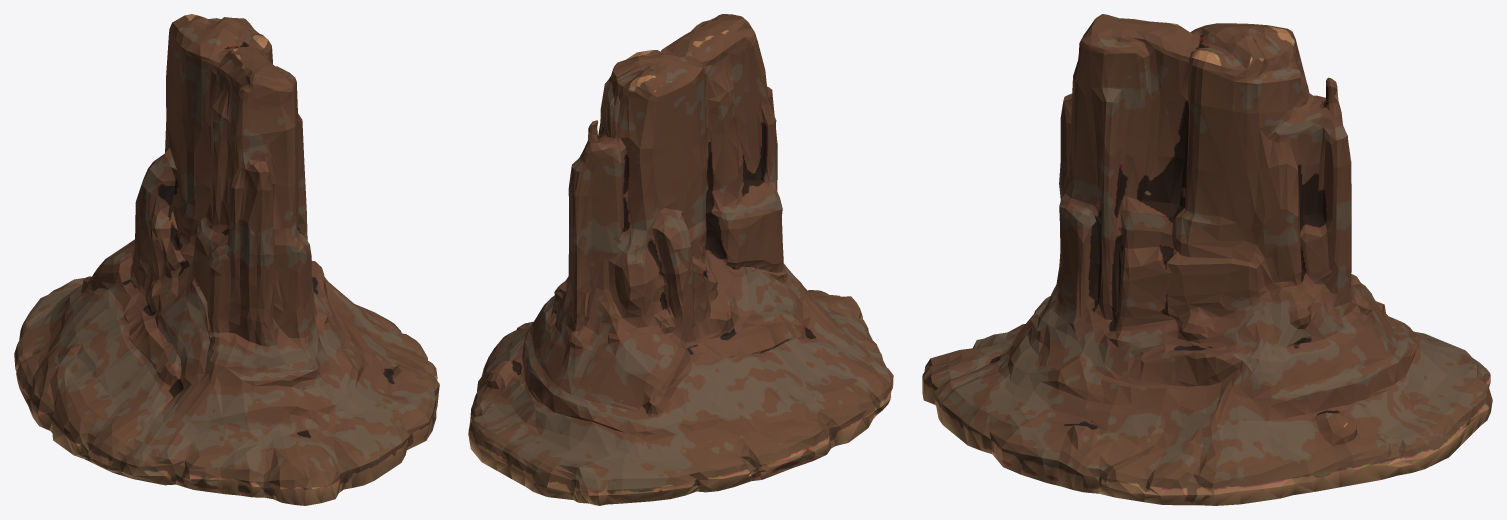
Rendered from MesaRockB.fbx.
3 renders of one model, left to right at view 1: azimuth 30°, elevation 25°; view 2: azimuth 150°, elevation 25°; view 3: azimuth 270°, elevation 25°, orthographic. The views are drawn at different scales.
Visible parts, largest first — view 1: MesaRockB; view 2: MesaRockB; view 3: MesaRockB.
Part boxes in pixels (x1=…): MesaRockB: x1=14, y1=14, x2=439, y2=505; MesaRockB: x1=468, y1=14, x2=893, y2=505; MesaRockB: x1=922, y1=14, x2=1492, y2=505.
Bounding box in the file's own units: 30.99 × 30.43 × 40.
Materials: 1 (1 with a texture image).
